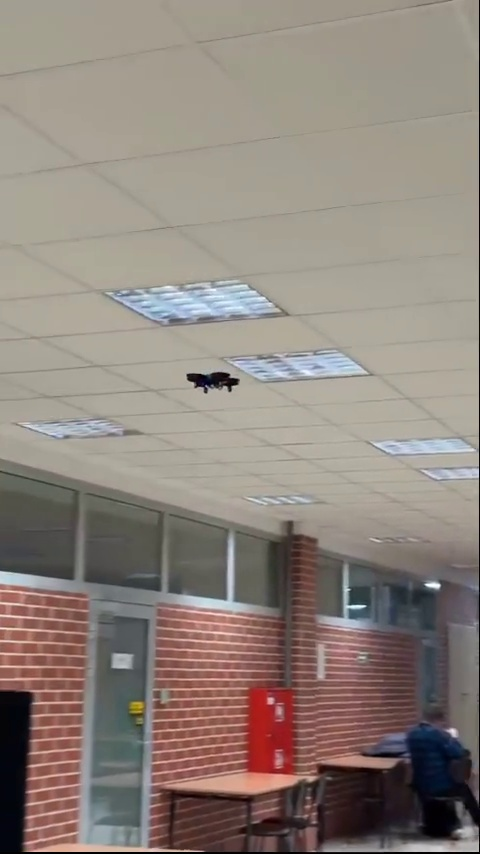drone: (188, 367, 244, 392)
no vest: (406, 700, 478, 810)
